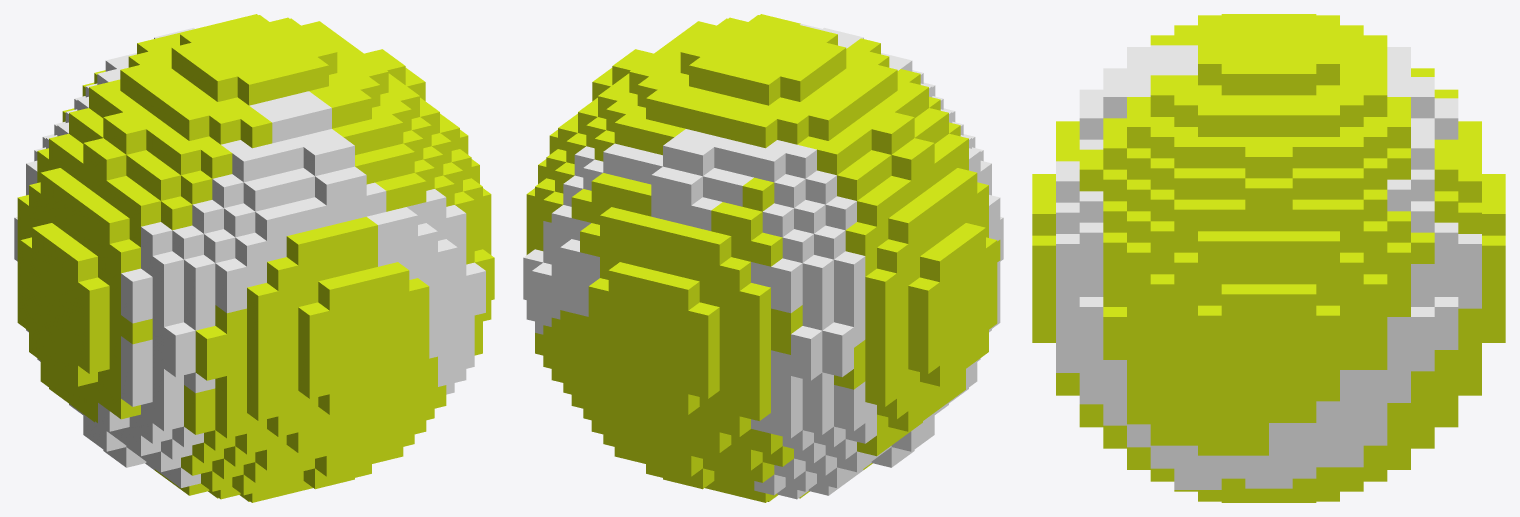
File: hyperstone.obj
3 views of the same model, side by side, from view 1: azimuth 30°, elevation 25°; view 2: azimuth 150°, elevation 25°; view 3: azimuth 270°, elevation 25° (orthographic). The views are drawn at different scales.
Bounding box in the file's own units: 20 × 20 × 20.
Materials: 1 (1 with a texture image).
